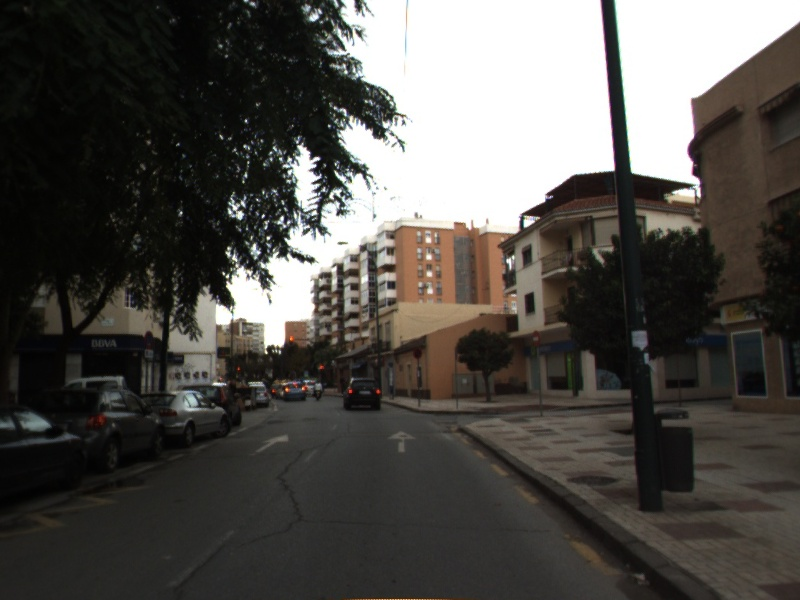STRAIGHT: (384, 428, 419, 454), (253, 432, 291, 454)
